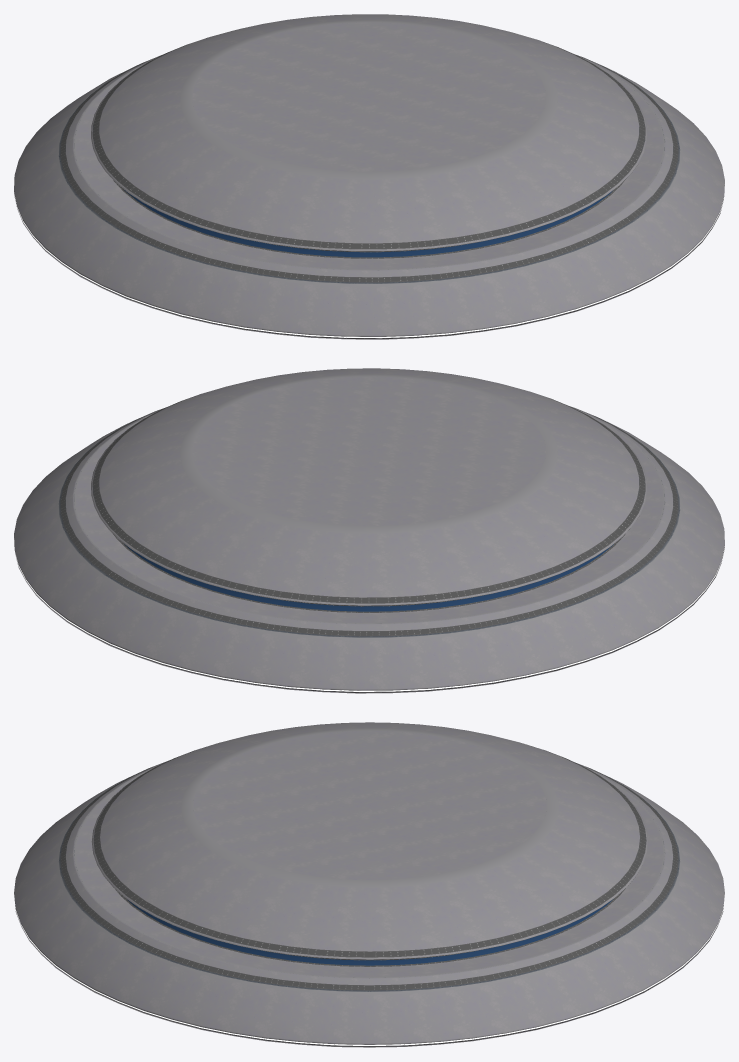
File: SM_Floor05.fbx
3 renders of one model, top to bottom at view 1: azimuth 30°, elevation 25°; view 2: azimuth 150°, elevation 25°; view 3: azimuth 270°, elevation 25°, orthographic.
Visible parts, largest first — view 1: SM_Floor05_LOD0; view 2: SM_Floor05_LOD0; view 3: SM_Floor05_LOD0.
Boxes of the visible parts, x1,y1,x2,y2 form: SM_Floor05_LOD0: [14, 14, 724, 339]; SM_Floor05_LOD0: [14, 368, 724, 693]; SM_Floor05_LOD0: [14, 722, 724, 1047].
Bounding box in the file's own units: 7000 × 7000 × 1000.
3 materials, 3 textured.
